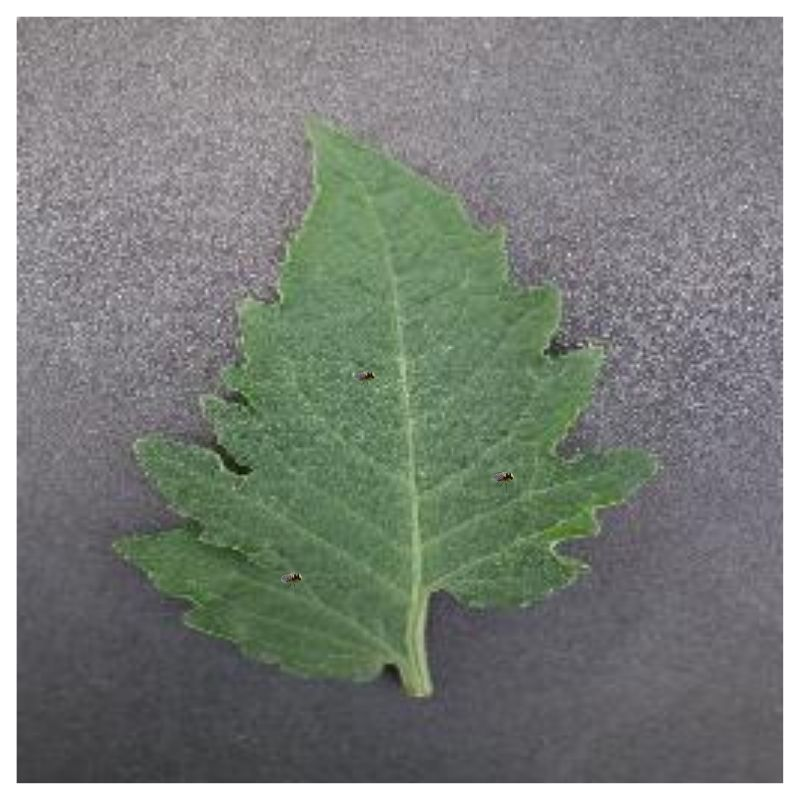liriomyza: (490, 468, 518, 484), (280, 568, 304, 586), (354, 367, 377, 382)
